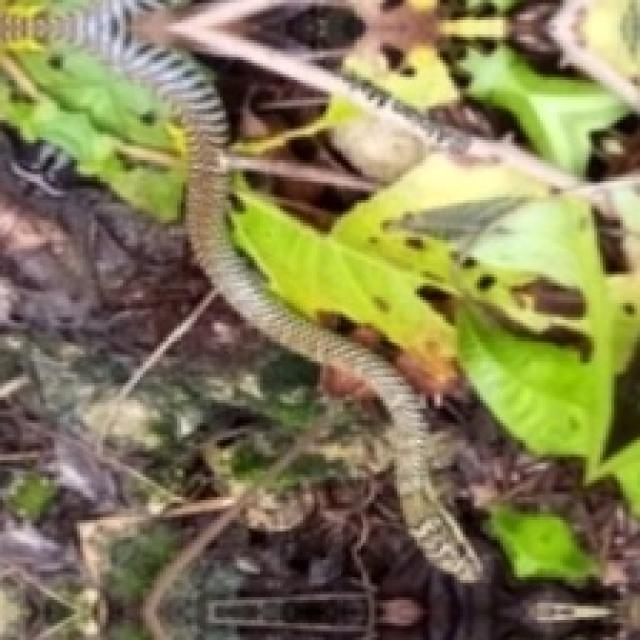paradise tree snake: (63, 0, 480, 580)
